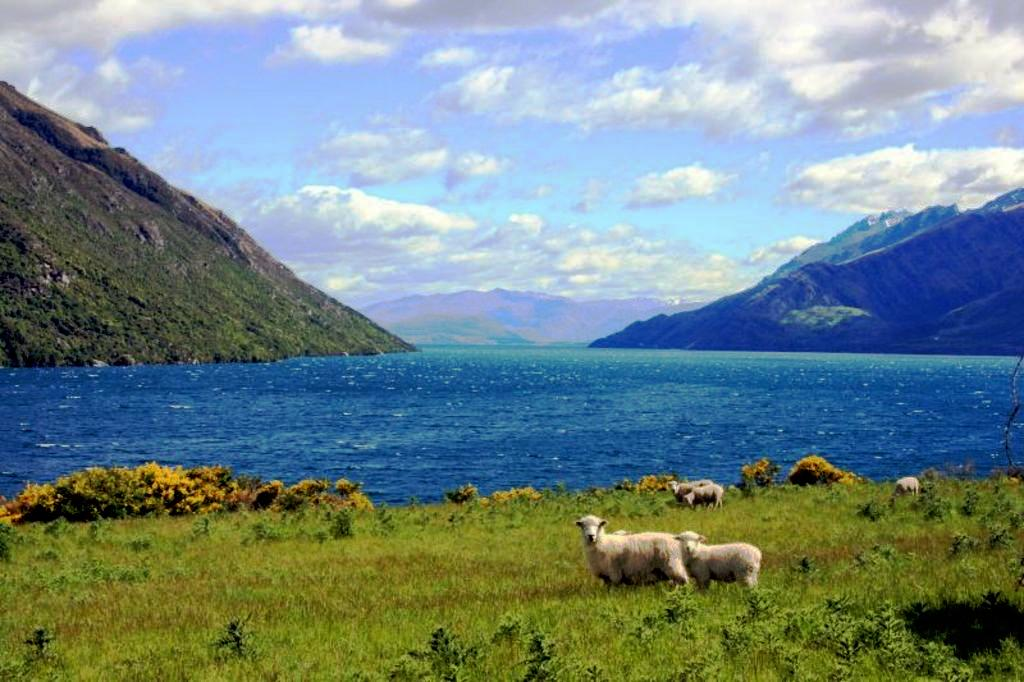Sheep: (574, 511, 671, 589), (676, 533, 760, 588), (685, 488, 722, 506), (891, 478, 918, 502), (670, 479, 708, 496)
